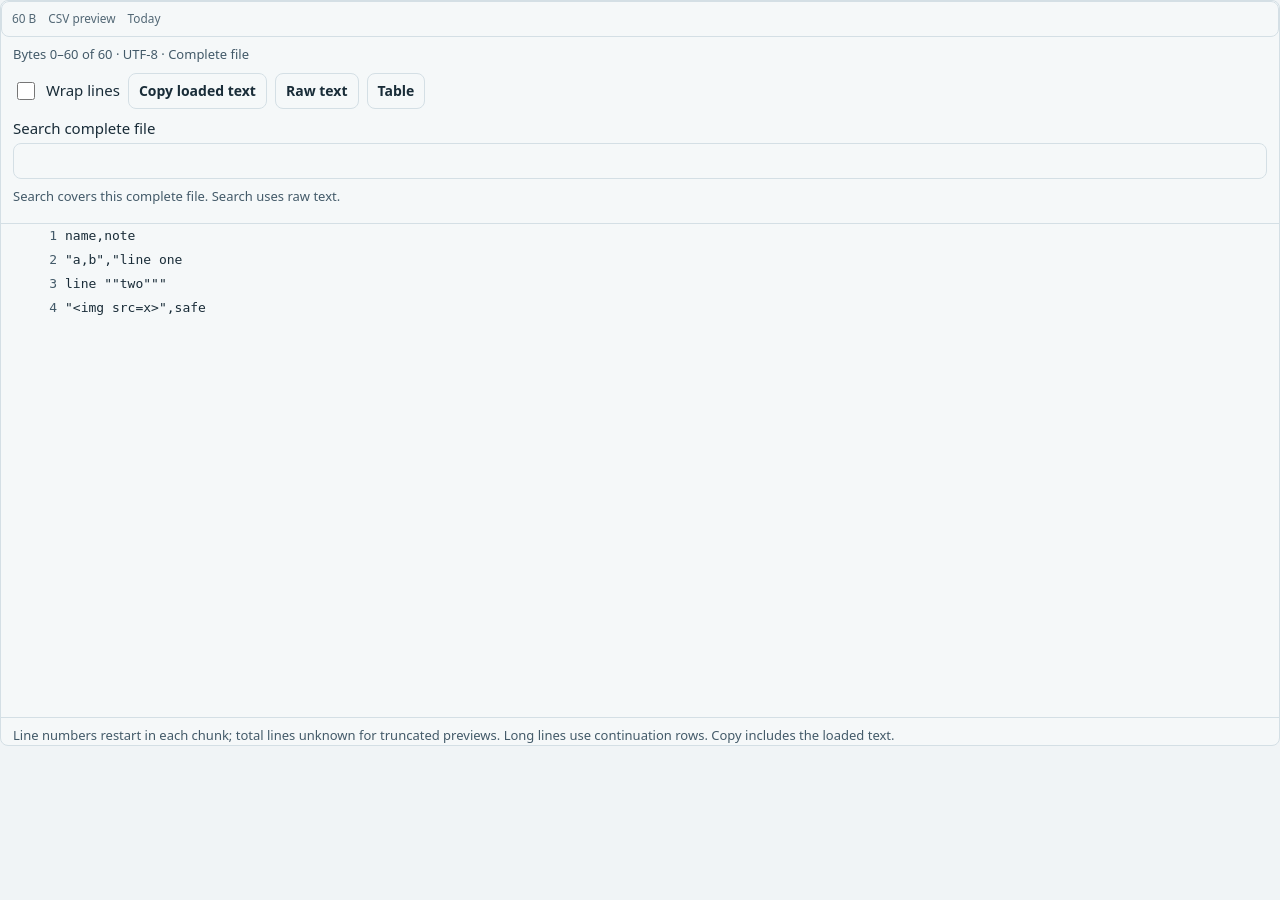
reads quoted CSV cells as escaped text
The width and height of the screenshot is (1280, 900).
Click the button "Table": (396, 90) [366, 72, 425, 108]
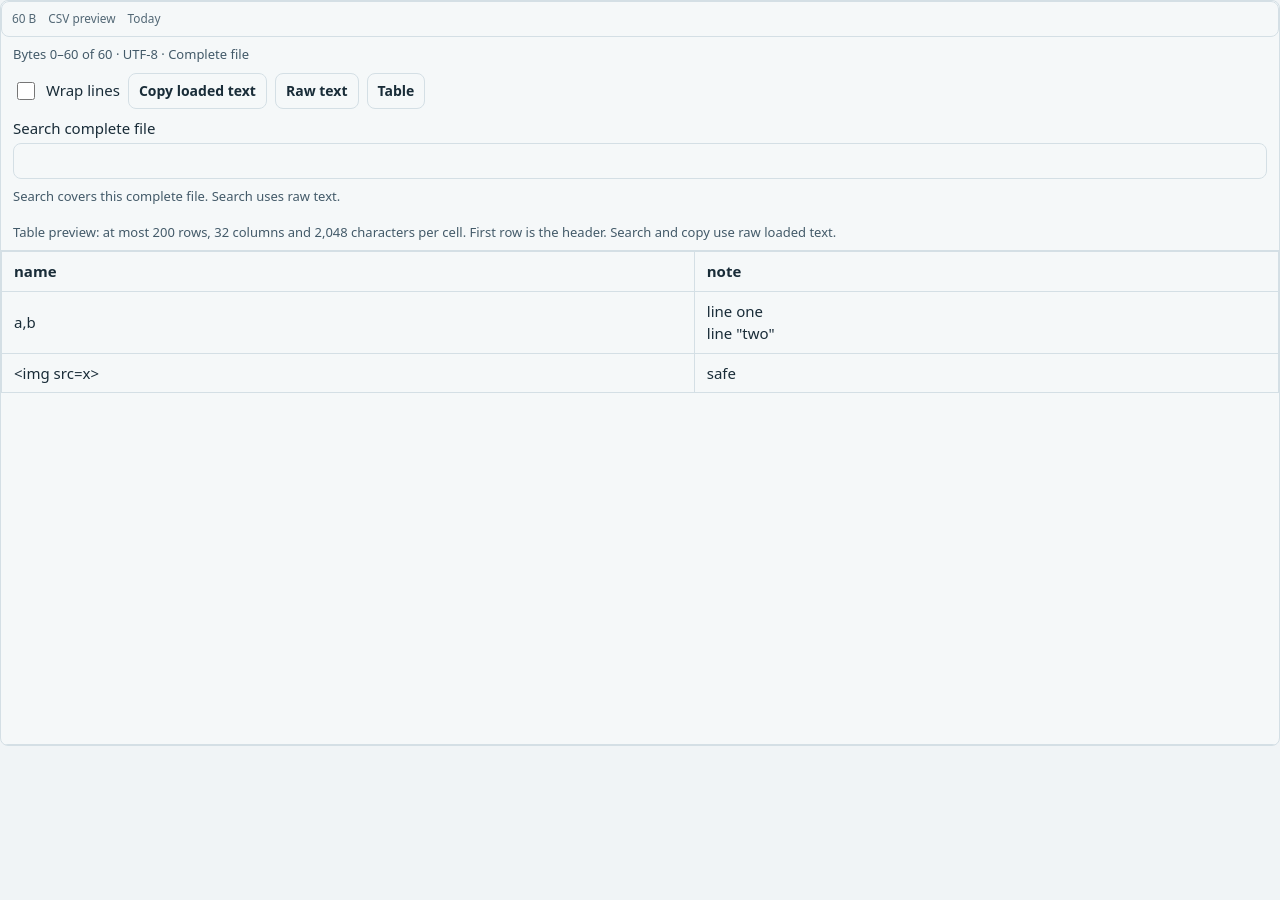
Expected: the cell "a,b" is shown, [2, 291, 694, 353]
Expected: the cell "line one line \"two\"" is shown, [694, 291, 1278, 353]
